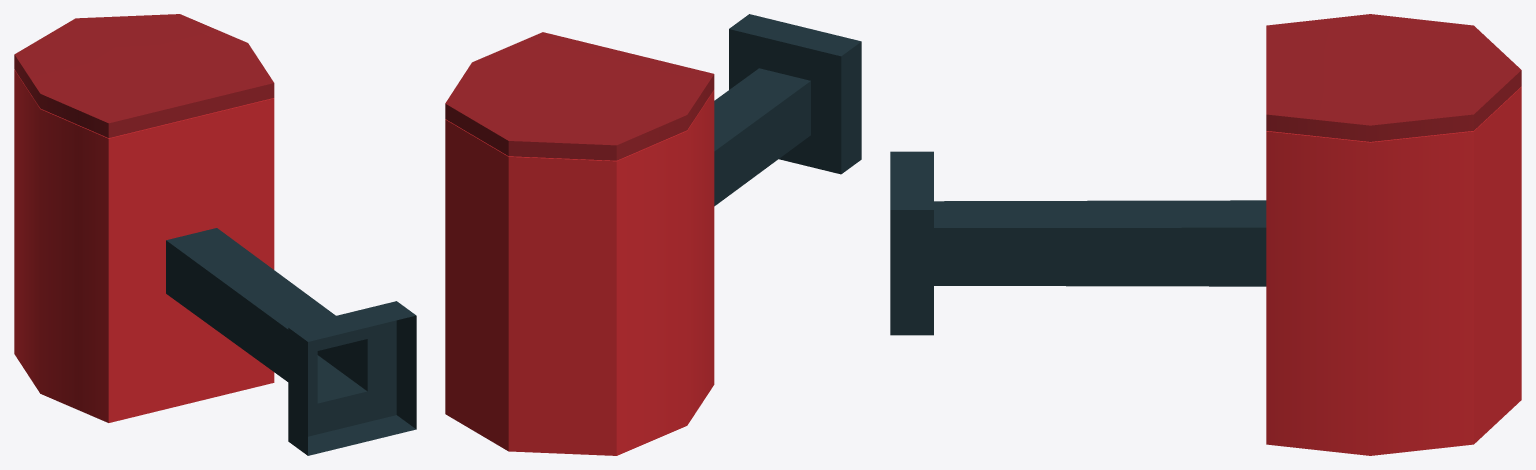
The model's file is Mailbox 01.FBX.
The picture shows the model from 3 angles, left to right: view 1: azimuth 30°, elevation 25°; view 2: azimuth 150°, elevation 25°; view 3: azimuth 270°, elevation 25°; orthographic projection. The views are drawn at different scales.
Parts seen in each view (by area): view 1: Mailbox 01, Mailbox 01 Cover; view 2: Mailbox 01, Mailbox 01 Cover; view 3: Mailbox 01, Mailbox 01 Cover.
Boxes of the visible parts, x1,y1,x2,y2 form: Mailbox 01: [14, 69, 416, 455]; Mailbox 01 Cover: [14, 14, 274, 137]; Mailbox 01: [445, 14, 861, 455]; Mailbox 01 Cover: [445, 32, 714, 160]; Mailbox 01: [890, 86, 1521, 455]; Mailbox 01 Cover: [1266, 14, 1521, 141].
Bounding box in the file's own units: 47 × 64.85 × 112.
Materials: 1 (1 with a texture image).
